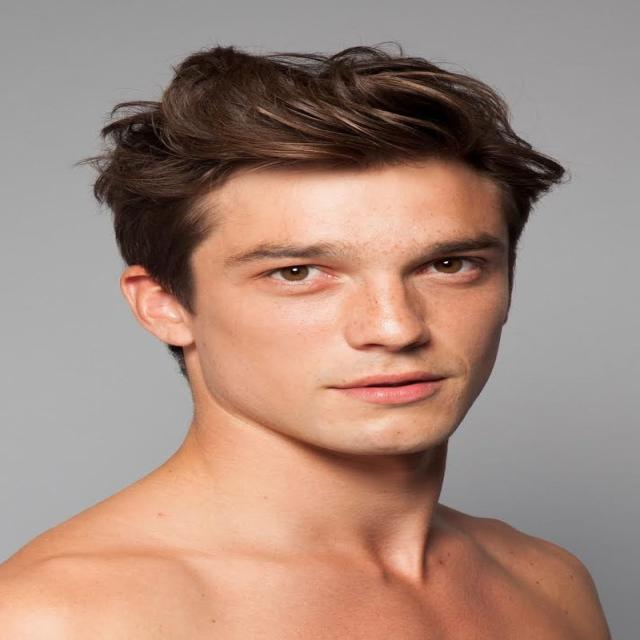front: (158, 205, 558, 437)
